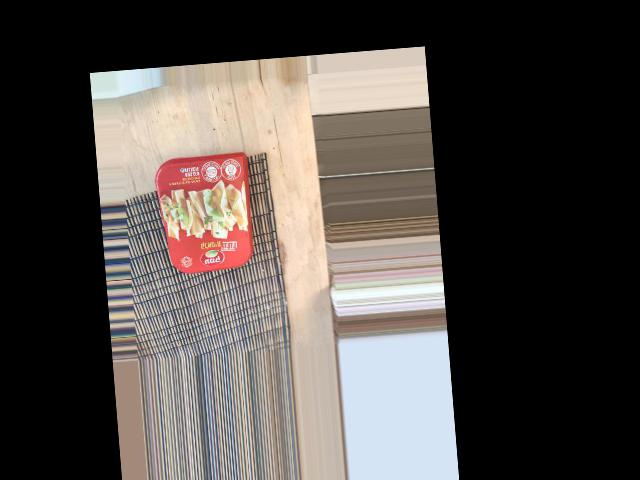cheese: (131, 223, 260, 325)
